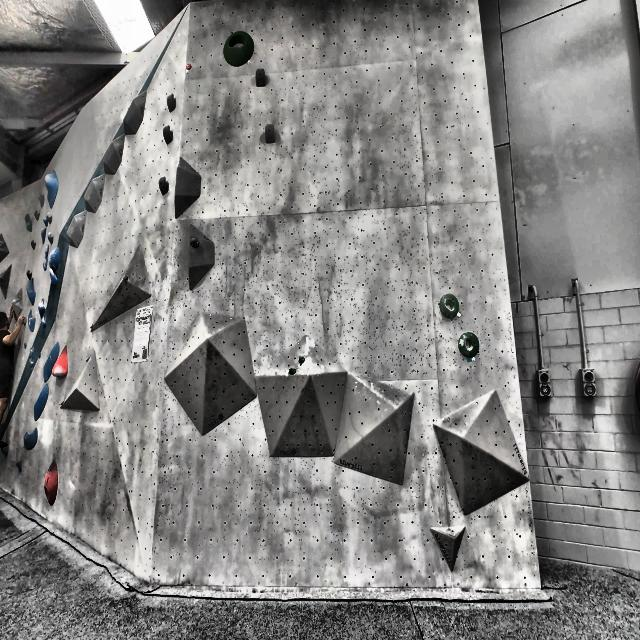Hold: (223, 30, 259, 67), (43, 458, 62, 508), (436, 292, 464, 323), (45, 173, 66, 208), (31, 385, 50, 422), (458, 333, 480, 359), (54, 344, 68, 379), (25, 278, 38, 306), (24, 428, 39, 452), (48, 247, 62, 269), (188, 234, 203, 252), (25, 312, 36, 334), (50, 270, 61, 287), (24, 218, 36, 232), (38, 303, 48, 317), (16, 457, 24, 473), (295, 356, 309, 365), (42, 227, 48, 247), (286, 368, 297, 378)
